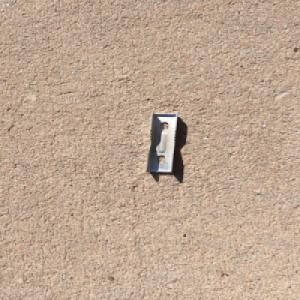ClampPart: (143, 109, 181, 174)
